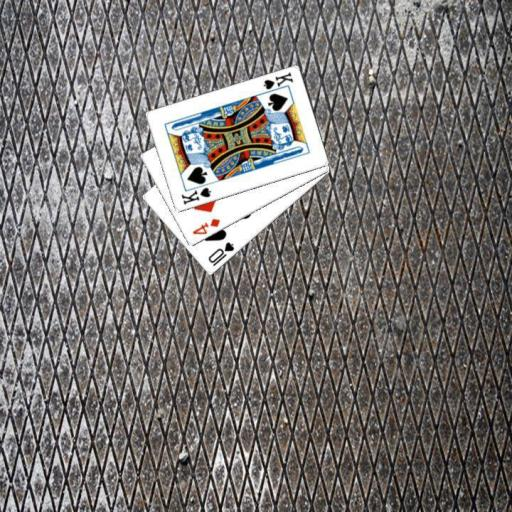card-corner: (205, 239, 236, 268), (260, 70, 294, 96), (178, 184, 212, 206), (189, 216, 221, 236)
